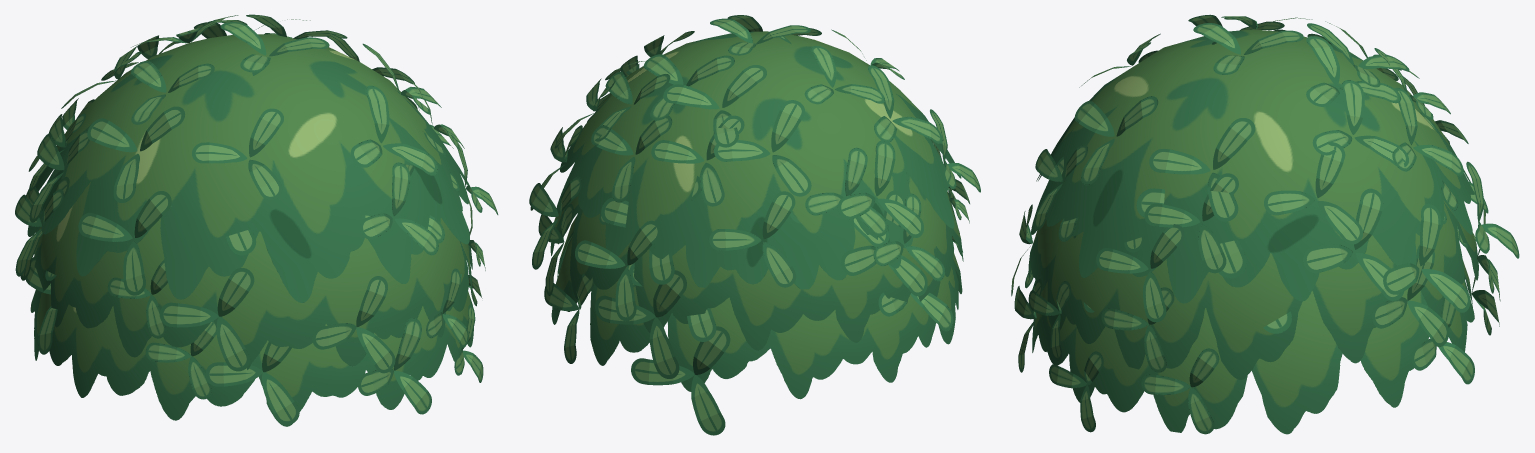
The model's file is OneBush.fbx.
The picture shows the model from 3 angles, left to right: view 1: azimuth 30°, elevation 25°; view 2: azimuth 150°, elevation 25°; view 3: azimuth 270°, elevation 25°; orthographic projection. The views are drawn at different scales.
Parts seen in each view (by area): view 1: Sphere.002; view 2: Sphere.002; view 3: Sphere.002.
Part boxes in pixels (<box>): Sphere.002: <box>15,14,498,426</box>; Sphere.002: <box>529,15,980,435</box>; Sphere.002: <box>1011,14,1519,434</box>.
Bounding box in the file's own units: 215 × 163 × 224.
